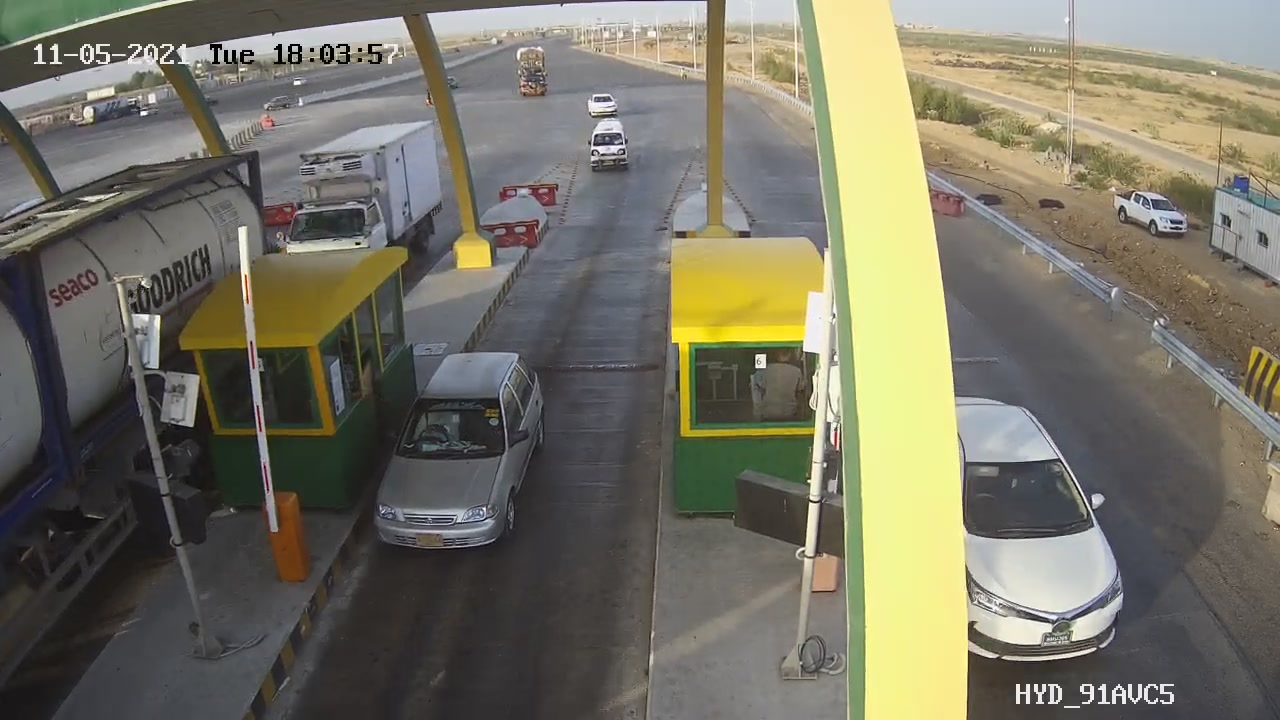F1: (355, 327, 565, 572)
